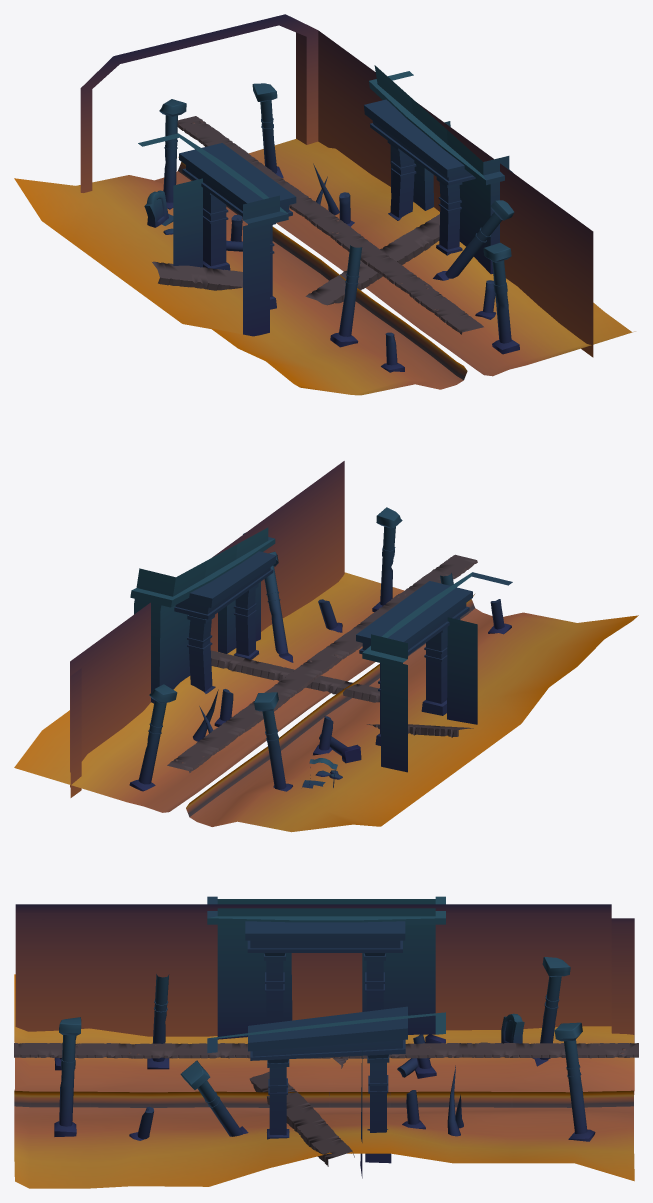
Rendered from stage2b.gltf.
3 views of the same model, one above another, from view 1: azimuth 30°, elevation 25°; view 2: azimuth 150°, elevation 25°; view 3: azimuth 270°, elevation 25° (orthographic). The views are drawn at different scales.
Parts seen in each view (by area): view 1: stage2b_GEO:PIV; view 2: stage2b_GEO:PIV; view 3: stage2b_GEO:PIV.
Boxes of the visible parts, x1=… form: stage2b_GEO:PIV: x1=14, y1=14, x2=635, y2=395; stage2b_GEO:PIV: x1=14, y1=461, x2=638, y2=832; stage2b_GEO:PIV: x1=14, y1=896, x2=638, y2=1188.
Bounding box in the file's own units: 14808 × 6438 × 21000.
1 material, 1 textured.
